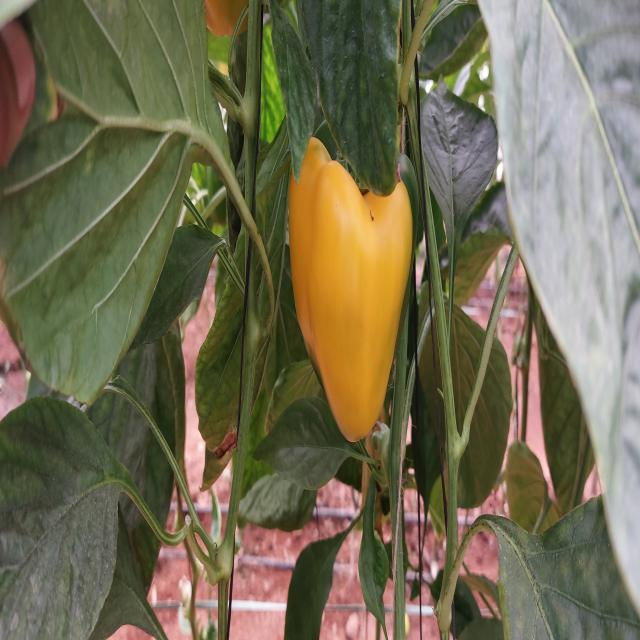Yellow-Ready-to-Harvest: (286, 130, 415, 452)
